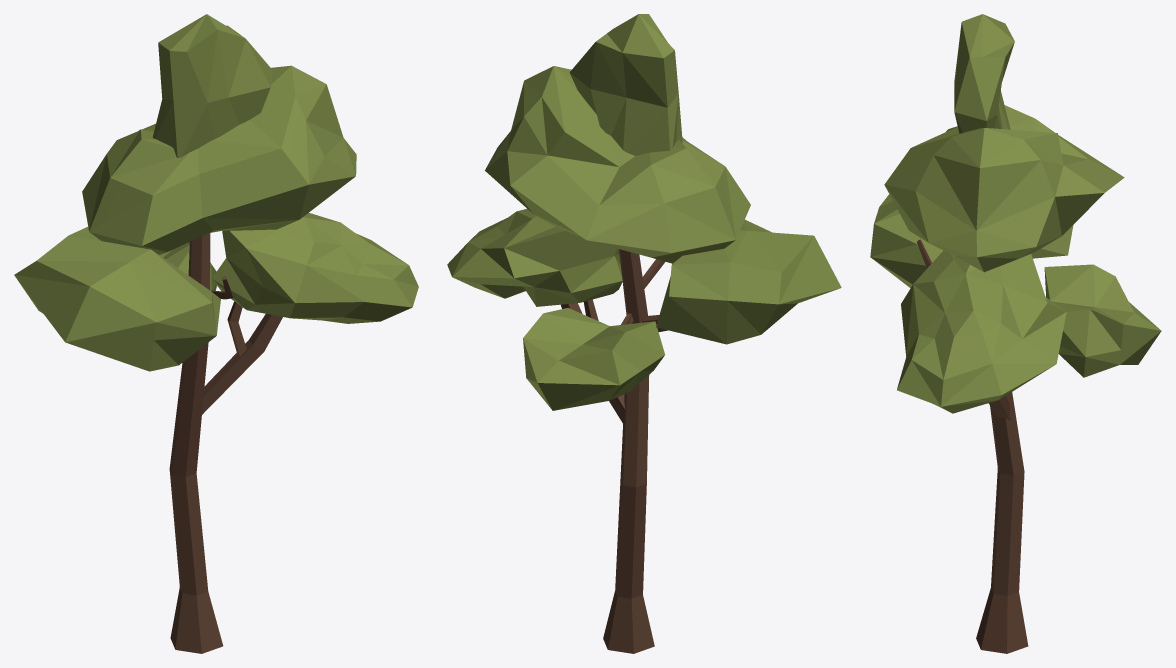
File: tree5.glb
3 renders of one model, left to right at view 1: azimuth 30°, elevation 25°; view 2: azimuth 150°, elevation 25°; view 3: azimuth 270°, elevation 25°, orthographic. The views are drawn at different scales.
Visible parts, largest first — view 1: tree15; view 2: tree15; view 3: tree15.
Boxes of the visible parts, x1=… form: tree15: x1=14, y1=14, x2=418, y2=653; tree15: x1=447, y1=14, x2=841, y2=653; tree15: x1=870, y1=14, x2=1161, y2=653.
Bounding box in the file's own units: 3.46 × 5.75 × 2.42.
Materials: 1 (1 with a texture image).
